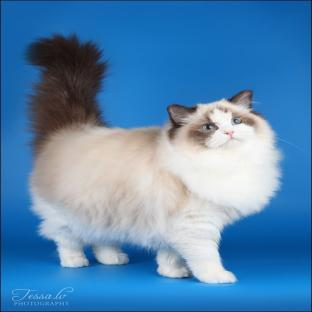Animal: (27, 35, 280, 283)
